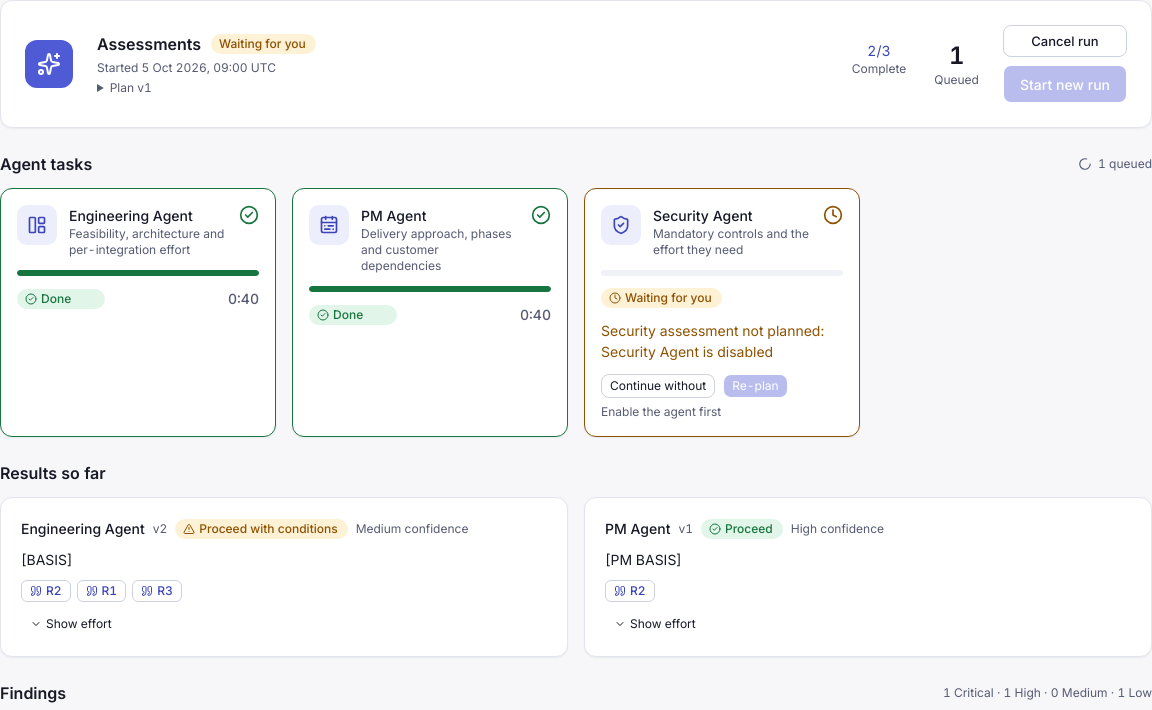
Test: a run waiting for a person (Story 5.5) › a decision someone resolved first says who, and re-reads
Click the button with aria-label "Continue without Security Agent" at [658, 386], box top-left (601, 374), bottom-right (715, 398)
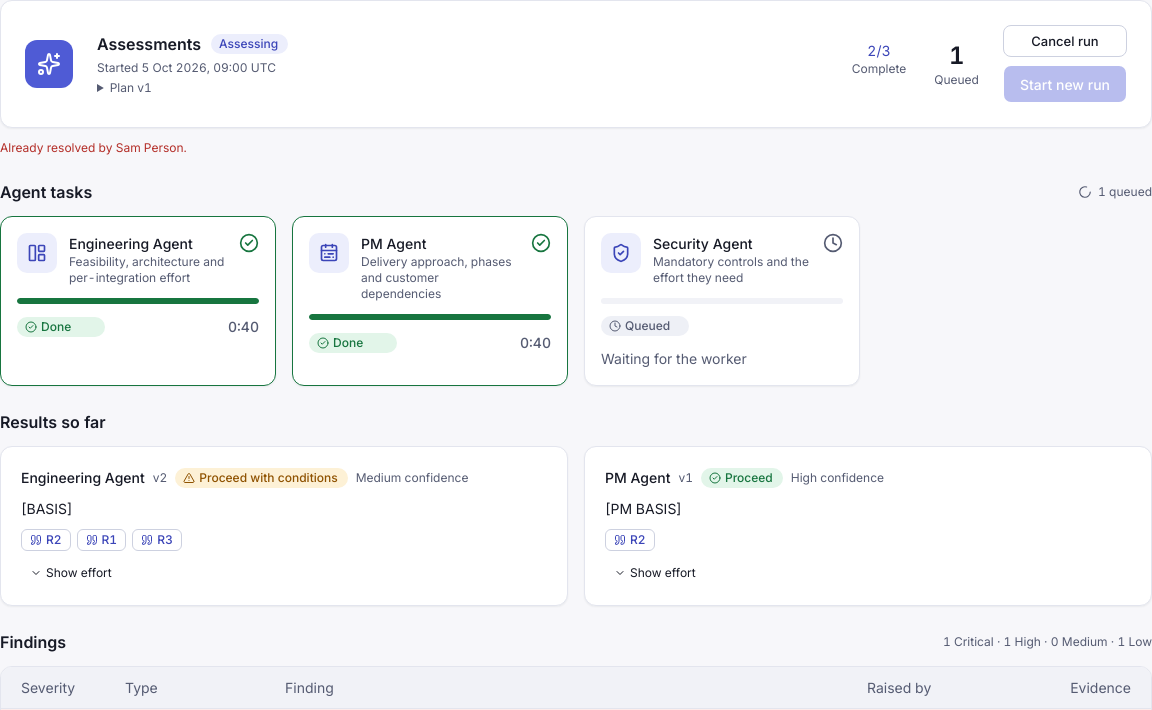
Expected: the text "Already resolved by Sam Person." is shown, top-left (0, 140), bottom-right (187, 155)
Expected: the button "Re-plan" is gone
